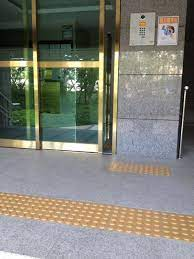guide_blocks: (1, 192, 193, 241), (109, 159, 171, 176)
